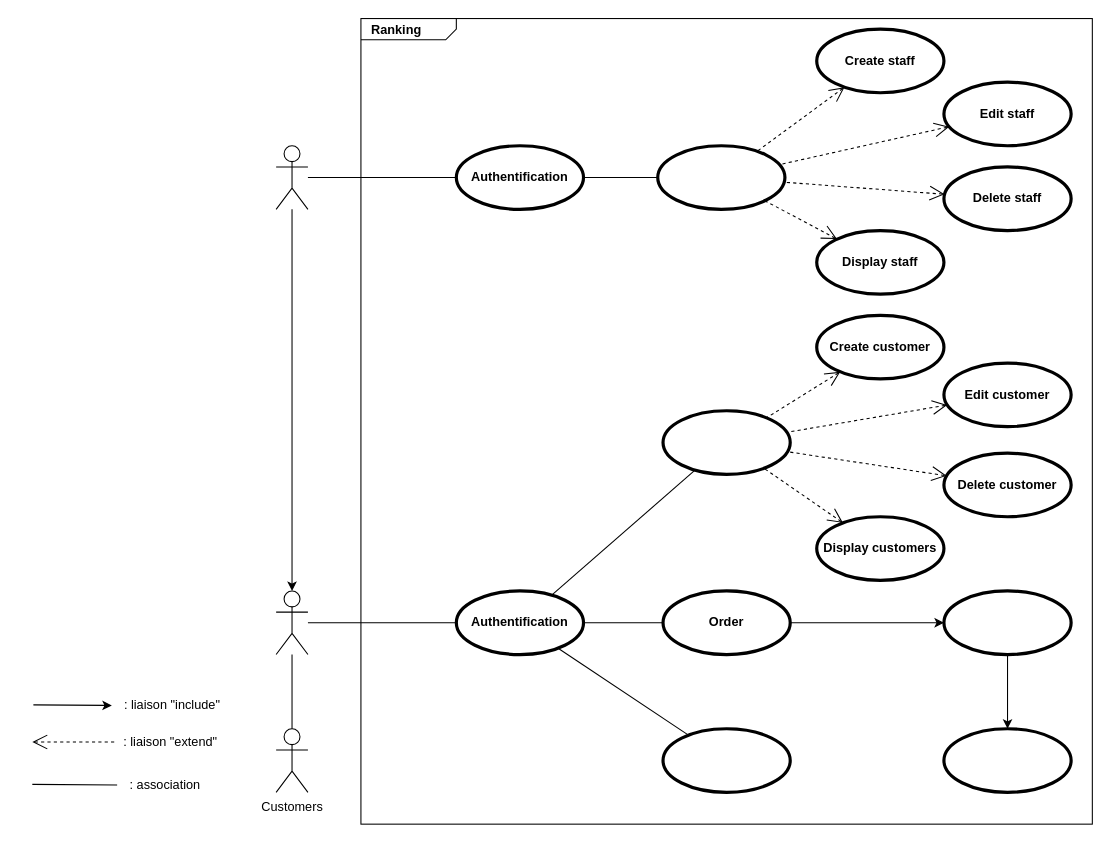
The diagram is 1111 pixels wide and 843 high, and some of its shapes have lost their labels. The shapes that lost their labels are listed below. From the top down, each one's centre as x and y in pixels, then its label:
At (291,177): "Manager".
At (721,177): "Staff data".
At (726,442): "Customers data".
At (291,622): "Staff".
At (1007,622): "Items".
At (726,760): "Stats".
At (1007,760): "Stock".
